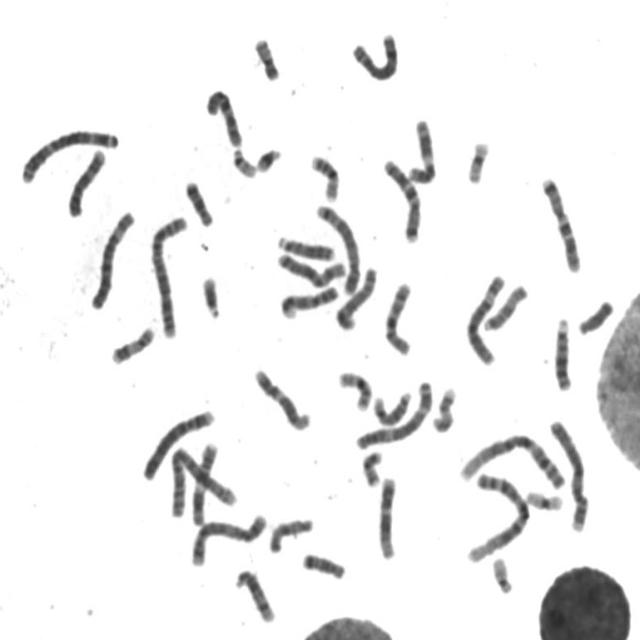A1: (456, 426, 568, 490), (462, 466, 533, 565)
A2: (146, 207, 192, 341), (166, 439, 234, 520)
A3: (352, 373, 437, 450), (17, 122, 122, 184)
B4: (139, 402, 219, 482), (545, 412, 593, 533)
B5: (312, 197, 365, 295), (188, 508, 270, 568)
C10: (202, 81, 246, 149), (380, 276, 416, 358)
C11: (188, 435, 221, 527), (404, 112, 440, 185)
C12: (250, 362, 314, 432), (374, 470, 400, 561)
C6: (87, 204, 138, 311), (462, 267, 509, 367)
C7: (538, 170, 585, 274), (380, 152, 426, 244)
C8: (332, 261, 380, 332), (348, 24, 402, 83)
C9: (57, 149, 113, 229), (277, 278, 342, 320)
D13: (275, 228, 338, 262), (551, 310, 576, 392)
D14: (231, 562, 279, 624), (370, 385, 416, 427)
D15: (480, 276, 531, 332), (265, 510, 317, 555)
E16: (334, 363, 375, 413), (306, 148, 343, 203)
E17: (107, 319, 158, 366), (430, 381, 460, 434)
E18: (181, 173, 217, 227), (298, 545, 349, 581)
F19: (464, 134, 494, 184), (522, 483, 566, 512)
F20: (250, 30, 284, 82), (359, 444, 386, 488)
G21: (197, 269, 225, 320), (252, 140, 286, 174)
G22: (488, 550, 517, 596), (228, 142, 260, 179)
X: (274, 246, 349, 290)
Y: (574, 292, 618, 336)
